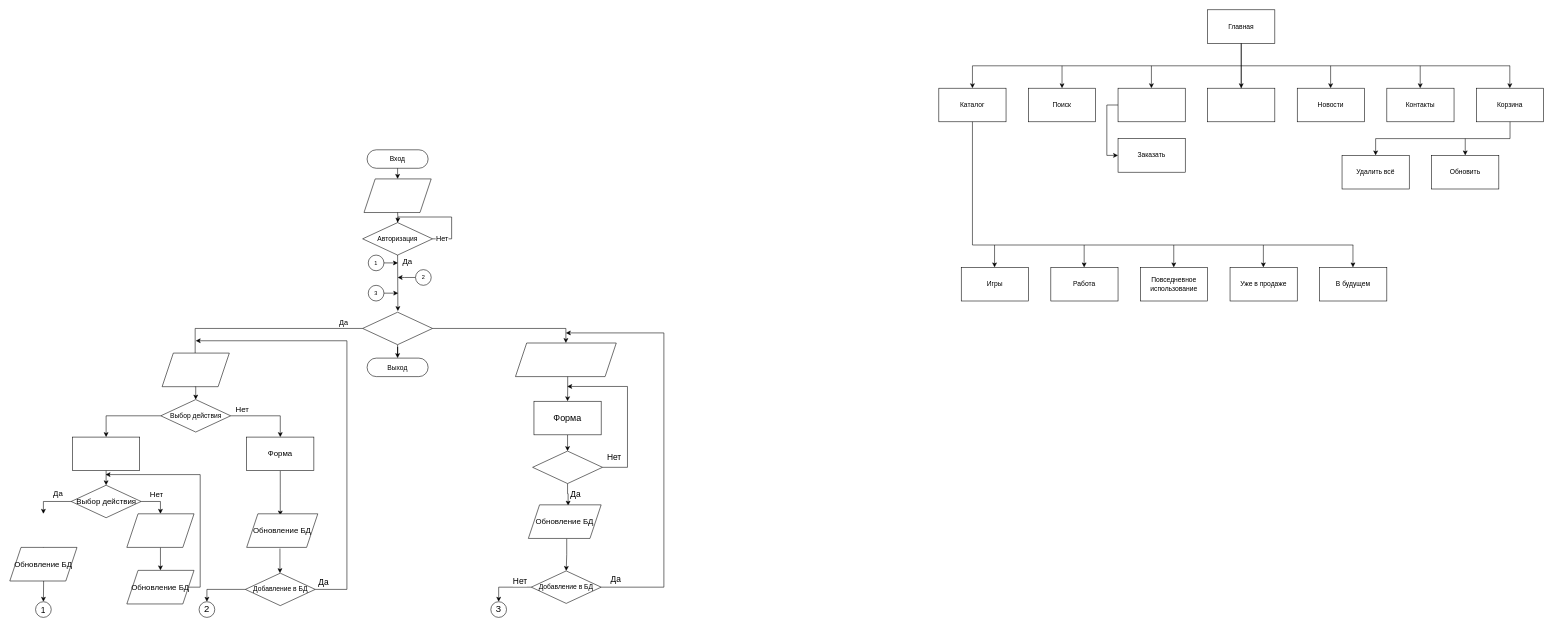
The diagram is 1553 pixels wide and 627 high, and some of its shapes have lost their labels. The shapes that lost their labels are listed below. From the top down, each one's centre as x and y in pixels, then its label:
At point 1151,105: "Техника".
At point 1241,105: "О компании".
At point 397,195: "Загрузка".
At point 397,328: "Панель админа".
At point 195,370: "Редактирование списка товара".
At point 565,359: "Добавление нового пользователя".
At point 106,454: "Таблица с товарами".
At point 567,467: "Аутентификация".
At point 160,530: "Удаление".
